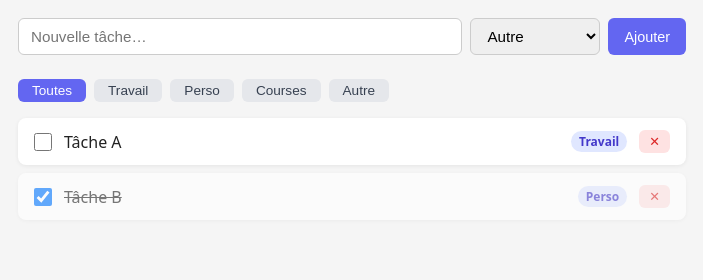
Test case: TaskList — avec appels API mockés › ajoute une nouvelle tâche à la liste
Expected: the text "Tâche A" is shown, [64,130,122,152]
In the field named "titre": (240, 36) [18,18,462,55], type "Nouvelle tâche"
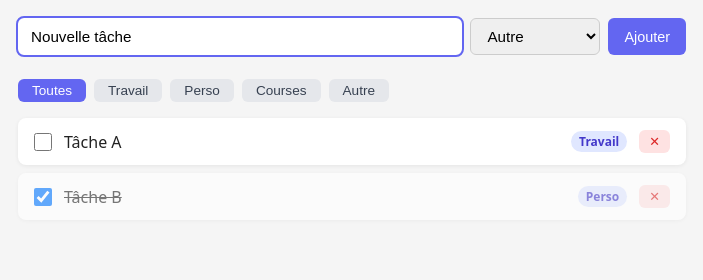
Click the button "Ajouter": (647, 36) [608,18,686,55]
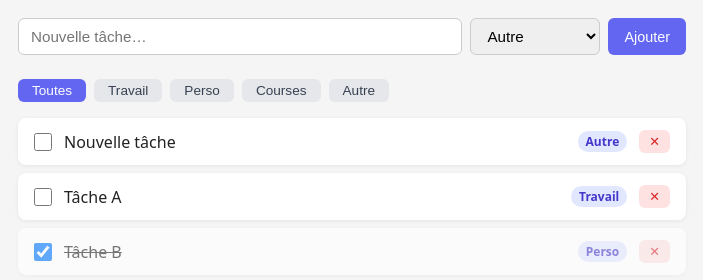
Now the text "Nouvelle tâche" is shown, box [64,130,176,152]
